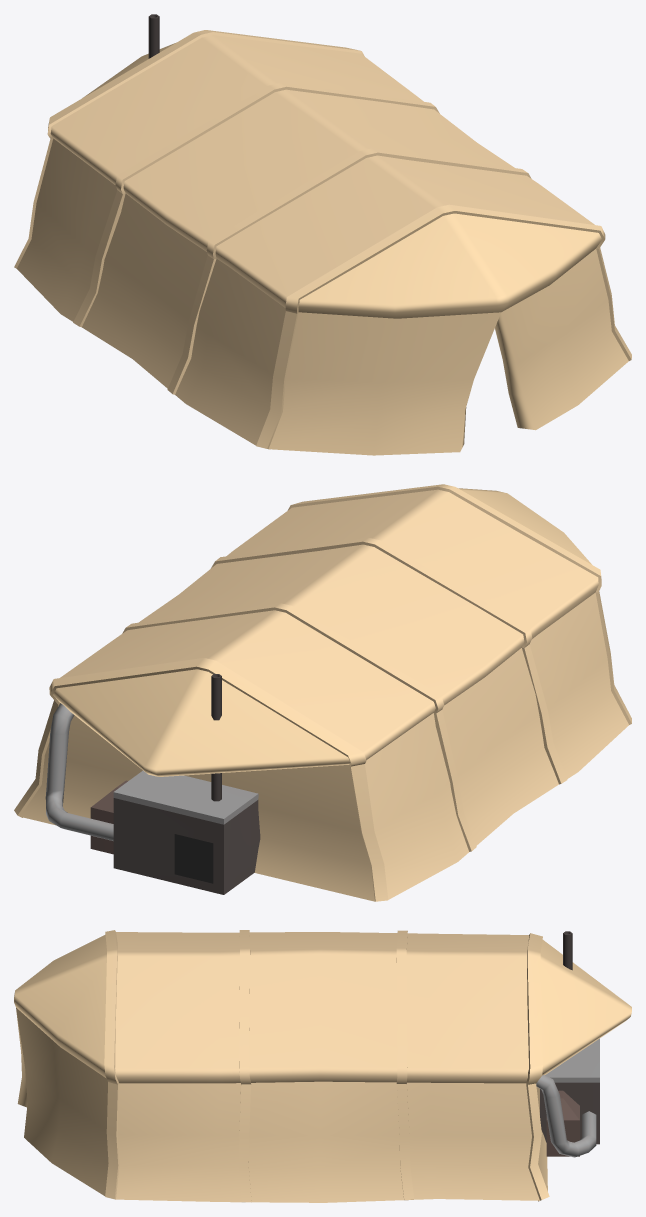
File: Tent_010.glb
3 views of the same model, one above another, from view 1: azimuth 30°, elevation 25°; view 2: azimuth 150°, elevation 25°; view 3: azimuth 270°, elevation 25° (orthographic). The views are drawn at different scales.
Visible parts, largest first — view 1: Tent_010; view 2: Tent_010; view 3: Tent_010.
Boxes of the visible parts, x1,y1,x2,y2 form: Tent_010: (14,14,631,455); Tent_010: (14,484,631,901); Tent_010: (14,930,631,1202).
Bounding box in the file's own units: 6.69 × 3.3 × 10.47.
1 material, 1 textured.
